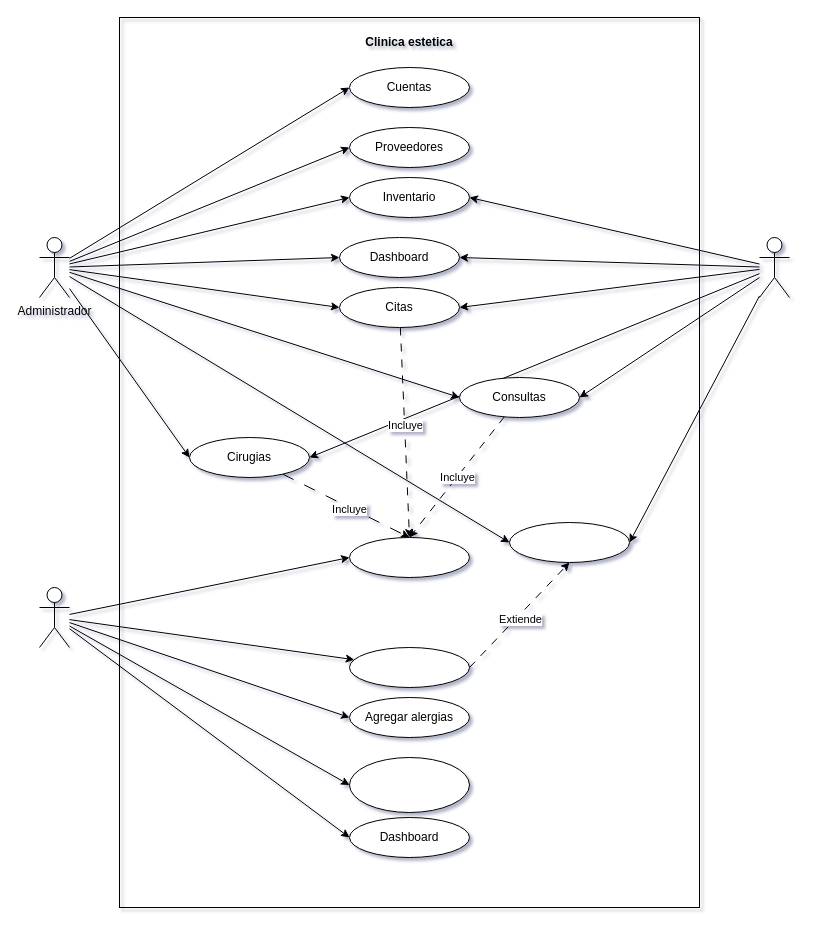
The diagram is 813 pixels wide and 931 high, and some of its shapes have lost their labels. Each missing label, with the centre of its shape:
"Aceptar cita" goes at (x=569, y=542).
"Agregar enfermedades cronicas" goes at (x=409, y=784).
"Calendario" goes at (x=409, y=557).
"Solicitar cita" goes at (x=409, y=667).
"Staff" goes at (x=774, y=267).
"Usuario" goes at (x=54, y=617).
